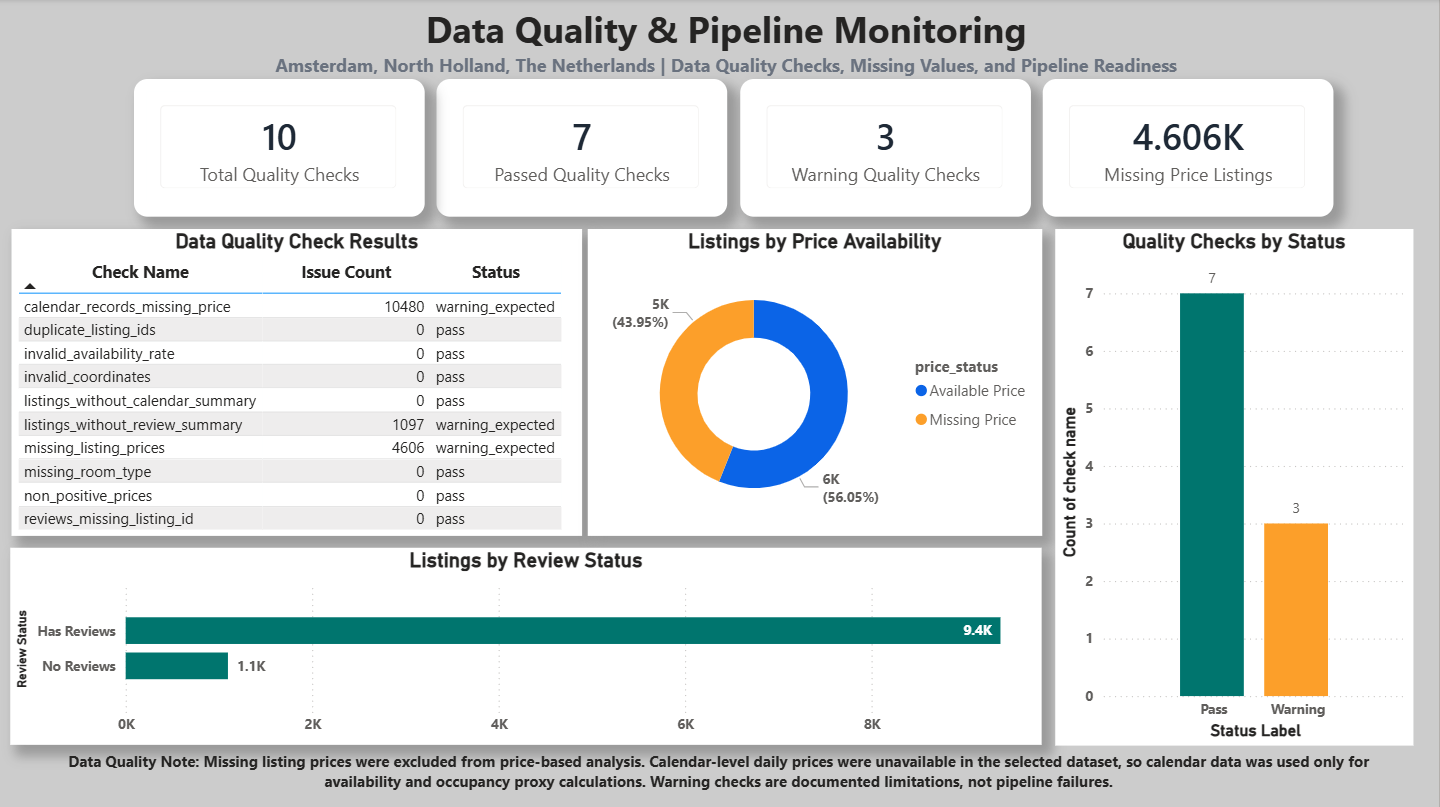

This screenshot's page, from the dashboard's own definition file:
{"tool":"powerbi","page":{"name":"Data Quality & Pipeline","canvas":[1280,720],"ordinal":2},"visuals":[{"type":"textbox","box":[238.6,0,814.8,97.5],"z":0},{"type":"cardVisual","title":"Listings","fields":{"Data":["data_quality_checks_powerbi.Passed Quality Checks"]},"box":[388.7,71,258.1,122.2],"z":1000},{"type":"cardVisual","title":"Listings","fields":{"Data":["data_quality_checks_powerbi.Warning Quality Checks"]},"box":[659,71,258.1,122.2],"z":2000},{"type":"cardVisual","title":"Listings","fields":{"Data":["data_quality_checks_powerbi.Missing Price Listings"]},"box":[927.8,71,258.1,122.2],"z":3000},{"type":"cardVisual","title":"Listings","fields":{"Data":["data_quality_checks_powerbi.Total Quality Checks"]},"box":[119.8,71,258.1,122.2],"z":4000},{"type":"tableEx","title":"Data Quality Check Results","fields":{"Values":["data_quality_checks_powerbi.check_name","Sum(data_quality_checks_powerbi.issue_count)","data_quality_checks_powerbi.status"]},"box":[10.7,204.3,507.2,273.1],"z":5000},{"type":"donutChart","title":"Listings by Price Availability","fields":{"Category":["listing_master_powerbi.price_status"],"Y":["data_quality_checks_powerbi.Listing Count"]},"box":[523.7,204.1,403.7,273.1],"z":6000},{"type":"clusteredBarChart","title":"Listings by Review Status","fields":{"Category":["listing_master_powerbi.review_status"],"Y":["data_quality_checks_powerbi.Listing Count"]},"box":[10.5,487.7,916.9,175.6],"z":7000},{"type":"clusteredColumnChart","title":"Quality Checks by Status","fields":{"Y":["CountNonNull(data_quality_checks_powerbi.check_name)"],"Category":["data_quality_checks_powerbi.Status Label"]},"box":[939.4,204.1,318.1,459.2],"z":8000},{"type":"textbox","box":[22.5,663.3,1235,45],"z":9000}]}

Visuals, with their boxes in screenshot pixels (x1, y1, x2, y2), scaled from the page's 1280x720 canvas onto the 1440x807 screenshot:
textbox: rect(268, 0, 1185, 109)
"Listings" cardVisual: rect(437, 80, 728, 217)
"Listings" cardVisual: rect(741, 80, 1032, 217)
"Listings" cardVisual: rect(1044, 80, 1334, 217)
"Listings" cardVisual: rect(135, 80, 425, 217)
"Data Quality Check Results" tableEx: rect(12, 229, 583, 535)
"Listings by Price Availability" donutChart: rect(589, 229, 1043, 535)
"Listings by Review Status" clusteredBarChart: rect(12, 547, 1043, 743)
"Quality Checks by Status" clusteredColumnChart: rect(1057, 229, 1415, 743)
textbox: rect(25, 743, 1415, 794)
